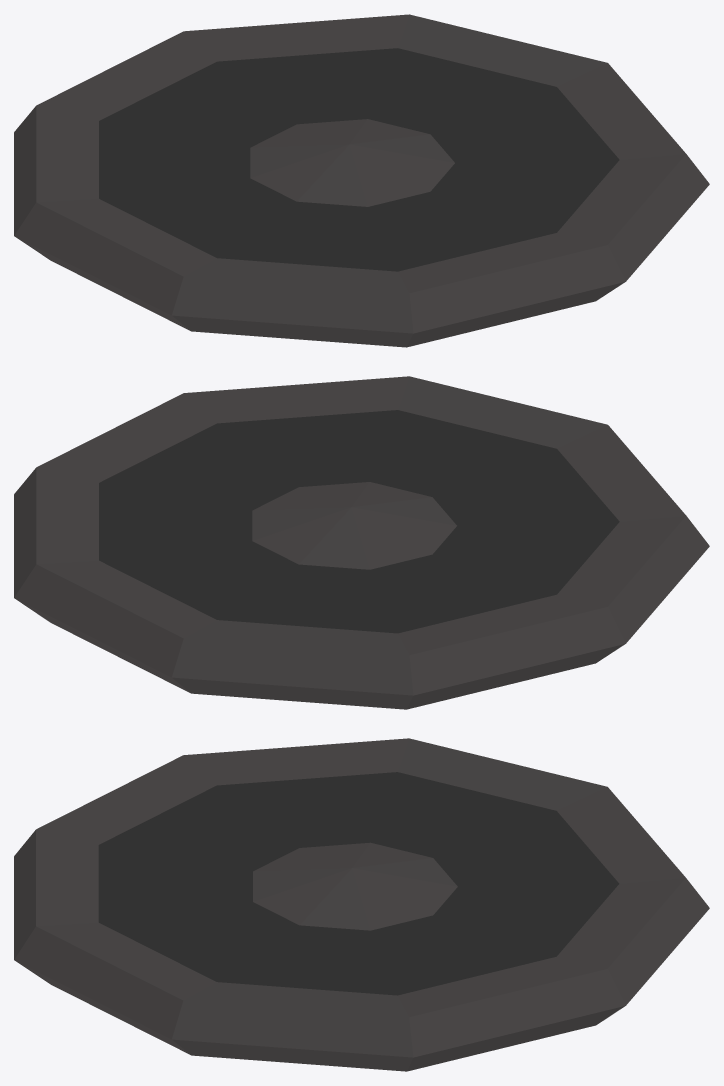
File: canal-cover.glb
3 renders of one model, top to bottom at view 1: azimuth 30°, elevation 25°; view 2: azimuth 150°, elevation 25°; view 3: azimuth 270°, elevation 25°, orthographic.
Parts seen in each view (by area): view 1: canal-cover; view 2: canal-cover; view 3: canal-cover.
Part boxes in pixels (x1,y1,x2,y2): canal-cover: [14, 14, 709, 347]; canal-cover: [14, 376, 709, 709]; canal-cover: [14, 738, 709, 1071].
Size of the model in its own units: 1.05 by 0.1153 by 1.04.
1 material, 1 textured.
